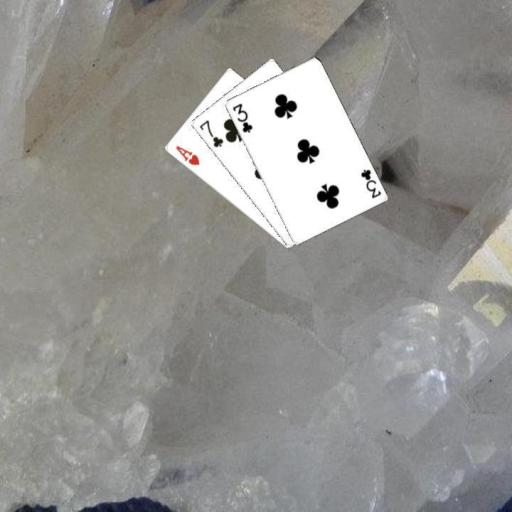card-corner: (196, 117, 224, 149), (357, 166, 383, 200), (229, 100, 254, 134), (172, 142, 201, 167)
